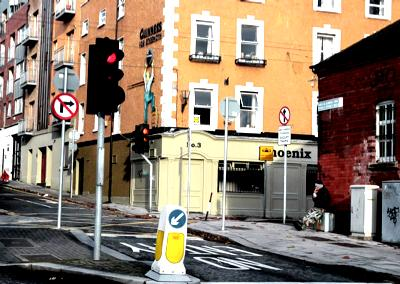International Road Signal Light: (86, 38, 126, 116), (133, 123, 149, 153)
